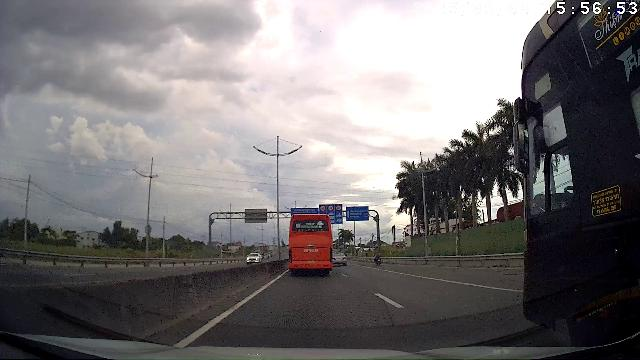127-toc-do-toi-da-60: (320, 205, 326, 211), (336, 206, 342, 210), (328, 206, 334, 210)
